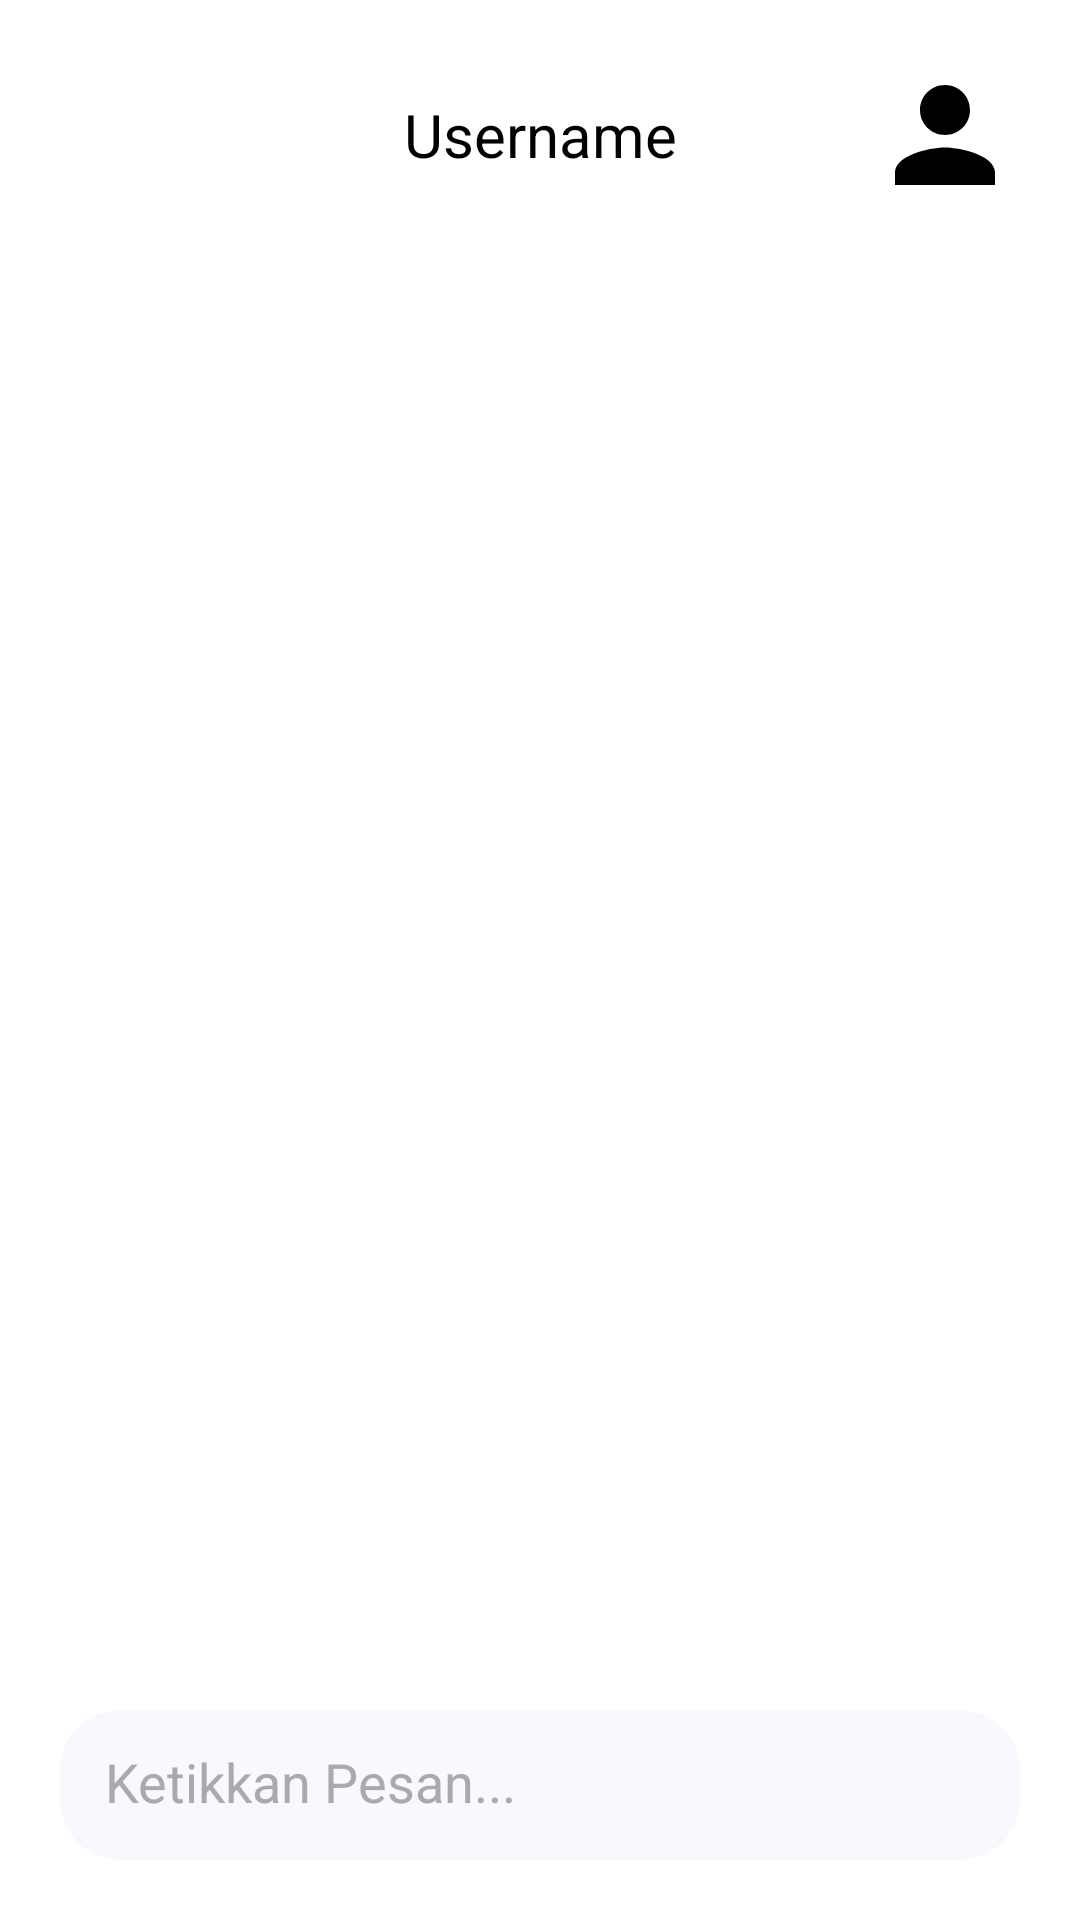

Named icons in this screenshot (1080px x 1920px) and their centers, (x,y):
person: (945,135)
